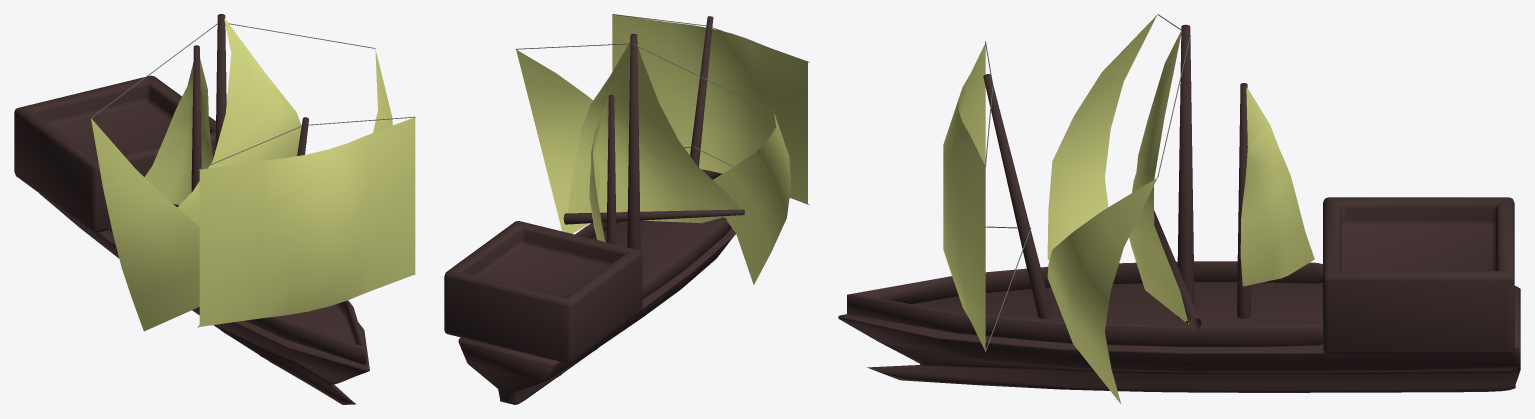
File: Barco.fbx
3 renders of one model, left to right at view 1: azimuth 30°, elevation 25°; view 2: azimuth 150°, elevation 25°; view 3: azimuth 270°, elevation 25°, orthographic. The views are drawn at different scales.
Visible parts, largest first — view 1: Barco, Vert; view 2: Barco, Vert; view 3: Barco.
Boxes of the visible parts, box(x1,y1,x2,y2) form: Barco: box(14, 14, 415, 404); Vert: box(91, 23, 375, 117); Barco: box(444, 14, 807, 404); Vert: box(515, 43, 772, 111); Barco: box(838, 15, 1520, 404).
Size of the model in its own units: 352 by 206 by 203.
